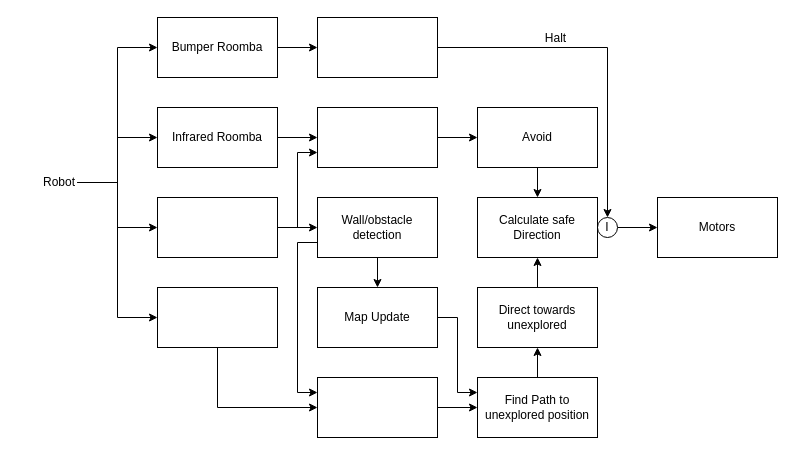
Some shapes in this 795 by 455 pixel diagram are drawn without their labels. The centre of each missing label's shape, as x and y in pixels:
Camera Kinect: the point at 217,317
Collide: the point at 377,47
Feelforce: the point at 377,137
Infrared Kinect: the point at 217,227
Virtual position correction: the point at 377,407
